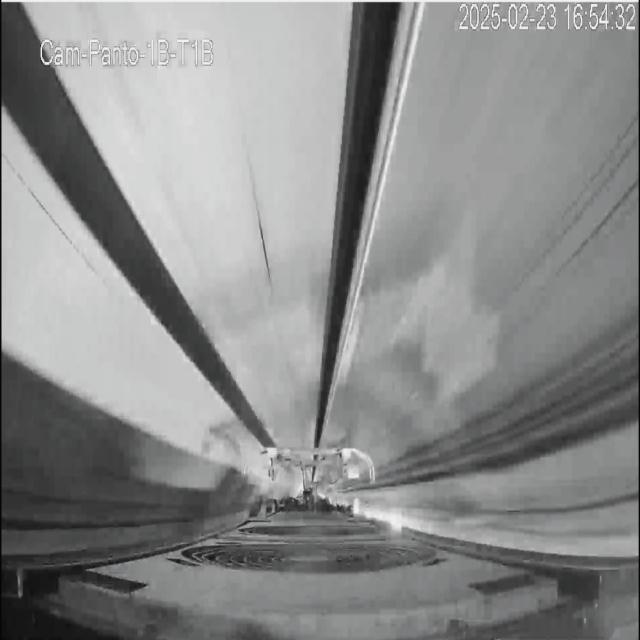Camera Stamp: (33, 28, 218, 73)
Date Stamp: (456, 3, 635, 33)
